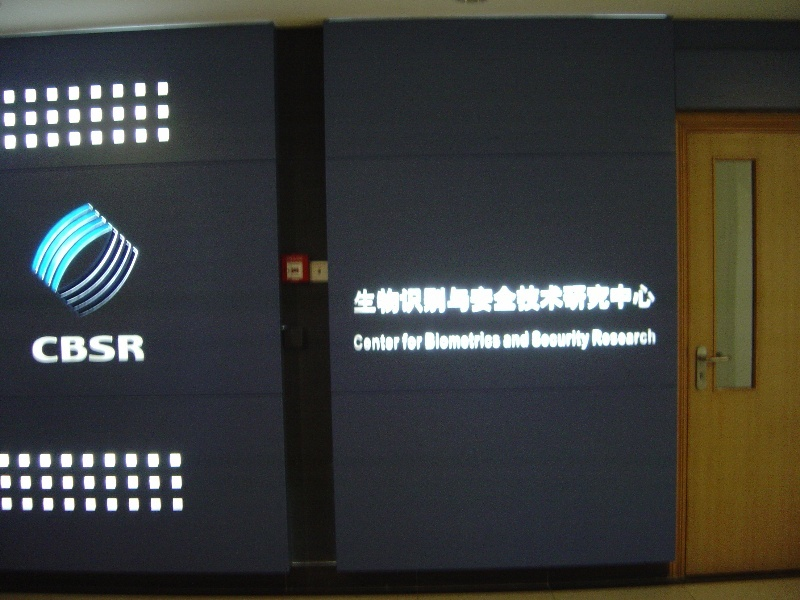text: (353, 279, 368, 320), (369, 279, 384, 320), (385, 279, 400, 320), (401, 279, 416, 320), (417, 279, 432, 320), (433, 279, 448, 320), (449, 279, 464, 320), (465, 279, 480, 320), (481, 279, 496, 320), (497, 279, 512, 320), (513, 279, 528, 320), (529, 279, 544, 320), (545, 279, 560, 320), (561, 279, 576, 320), (577, 279, 592, 320), (593, 279, 608, 320), (609, 279, 624, 320), (625, 279, 640, 320), (641, 279, 656, 320), (33, 333, 48, 366), (49, 333, 64, 366), (65, 333, 80, 366), (81, 333, 96, 366), (97, 333, 112, 366), (113, 333, 128, 366), (129, 333, 144, 366), (353, 332, 368, 354), (369, 332, 384, 354), (385, 332, 400, 354), (433, 331, 448, 352), (449, 331, 464, 352), (465, 331, 480, 352), (481, 331, 496, 352), (545, 330, 560, 351), (561, 330, 576, 351), (513, 330, 528, 349), (531, 330, 544, 351), (577, 330, 590, 351), (593, 329, 608, 347), (609, 329, 624, 347), (625, 329, 640, 347), (641, 329, 656, 347), (402, 333, 416, 351), (503, 330, 512, 349), (425, 331, 432, 352), (417, 333, 423, 351), (497, 331, 502, 352), (145, 333, 148, 366), (657, 279, 658, 320), (529, 330, 530, 349), (591, 329, 592, 347), (657, 329, 658, 347)
